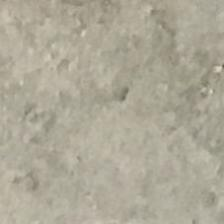Non_Crack: (18, 3, 213, 194)
